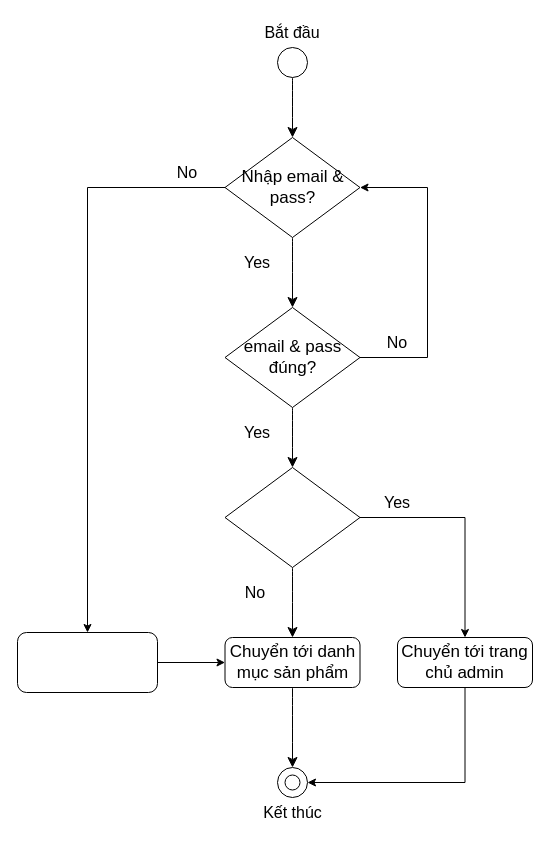
The diagram is 550 pixels wide and 844 high, and some of its shapes have lost their labels. The box of each missing label's shape, as (x1, y1, x2, y2) in pixels:
email & pass của admin?: (224, 466, 360, 568)
Liên kết tài khoản mạng xã hội: (16, 632, 158, 692)
